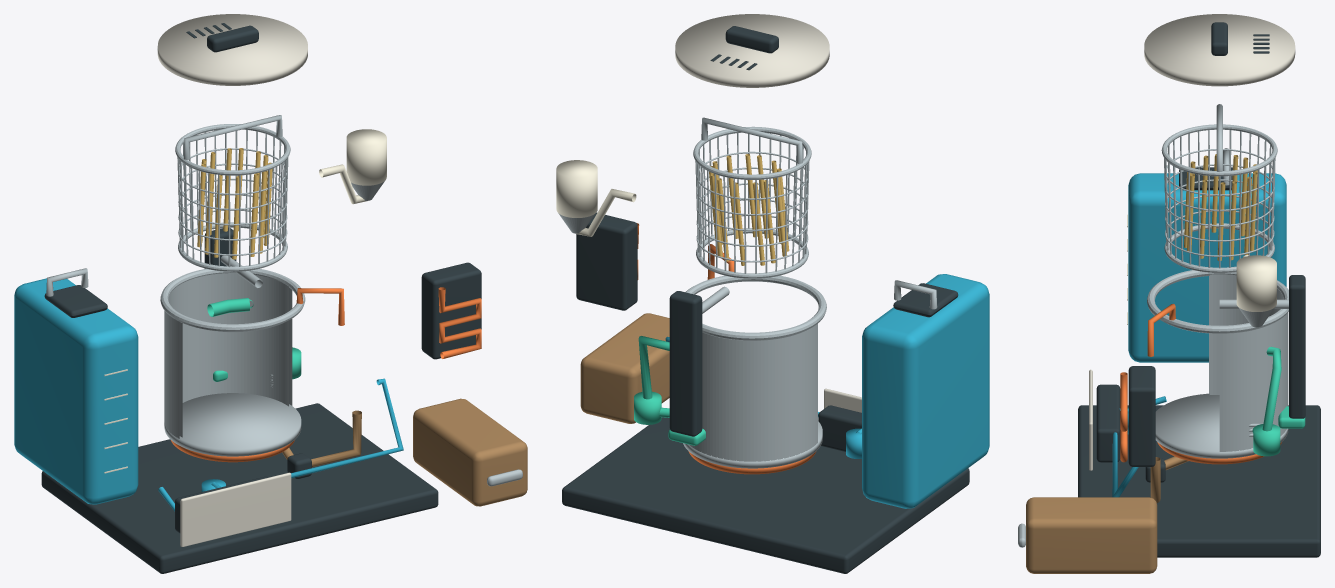
The model's file is pasta-cooker-exploded.glb.
3 renders of one model, left to right at view 1: azimuth 30°, elevation 25°; view 2: azimuth 150°, elevation 25°; view 3: azimuth 270°, elevation 25°, orthographic. The views are drawn at different scales.
Parts seen in each view (by area): view 1: Structural drip tray base, 01 Clean water removable tank, 05 Vessel section wall, 08 Removable waste drawer, Steam guarded lid, Vessel bottom, Wet dry isolation barrier, 03 Flow through heater block, Vessel rolled rim, 02 Separate salt hopper, Heated channel serpentine, 04 Basket top rim (+7 smaller); view 2: Structural drip tray base, 01 Clean water removable tank, 05 Vessel section wall, Steam guarded lid, 08 Removable waste drawer, 03 Flow through heater block, 09 Lift rail tower, 02 Separate salt hopper, Vessel rolled rim, 04 Basket top rim, 10 Sealed electrical concept bay, Clean tank fill cap (+9 smaller); view 3: Structural drip tray base, 01 Clean water removable tank, 08 Removable waste drawer, 05 Vessel section wall, Steam guarded lid, Vessel bottom, 03 Flow through heater block, 09 Lift rail tower, 02 Separate salt hopper, Vessel rolled rim, 10 Sealed electrical concept bay, 04 Basket top rim (+15 smaller).
Part boxes in pixels (box(x1,y1,x2,y2)): Structural drip tray base: box(41, 403, 438, 573); 01 Clean water removable tank: box(14, 278, 138, 504); 05 Vessel section wall: box(164, 273, 292, 438); 08 Removable waste drawer: box(413, 398, 527, 506); Steam guarded lid: box(157, 14, 307, 85); Vessel bottom: box(164, 393, 301, 456); Wet dry isolation barrier: box(180, 472, 291, 546); 03 Flow through heater block: box(421, 262, 481, 359); Vessel rolled rim: box(160, 269, 305, 332); 02 Separate salt hopper: box(346, 129, 386, 185); Heated channel serpentine: box(438, 287, 481, 358); 04 Basket top rim: box(175, 124, 290, 175); Structural drip tray base: box(562, 417, 969, 573); 01 Clean water removable tank: box(862, 274, 989, 508); 05 Vessel section wall: box(689, 294, 817, 461); Steam guarded lid: box(675, 14, 829, 87); 08 Removable waste drawer: box(580, 313, 669, 423); 03 Flow through heater block: box(576, 212, 637, 310); 09 Lift rail tower: box(669, 291, 702, 436); 02 Separate salt hopper: box(556, 160, 597, 217); Vessel rolled rim: box(685, 275, 826, 340); 04 Basket top rim: box(693, 126, 811, 179); 10 Sealed electrical concept bay: box(818, 405, 861, 451); Clean tank fill cap: box(893, 283, 958, 317); Structural drip tray base: box(1078, 405, 1320, 557); 01 Clean water removable tank: box(1128, 173, 1286, 362); 08 Removable waste drawer: box(1026, 497, 1157, 573); 05 Vessel section wall: box(1209, 274, 1288, 451); Steam guarded lid: box(1144, 14, 1295, 86); Vessel bottom: box(1155, 393, 1288, 458); 03 Flow through heater block: box(1128, 366, 1155, 466); 09 Lift rail tower: box(1289, 275, 1305, 418); 02 Separate salt hopper: box(1236, 255, 1276, 311); Vessel rolled rim: box(1147, 270, 1288, 333); 10 Sealed electrical concept bay: box(1096, 384, 1120, 462); 04 Basket top rim: box(1161, 124, 1277, 176).
Bounding box in the file's own units: 0.679 × 0.759 × 0.449.
